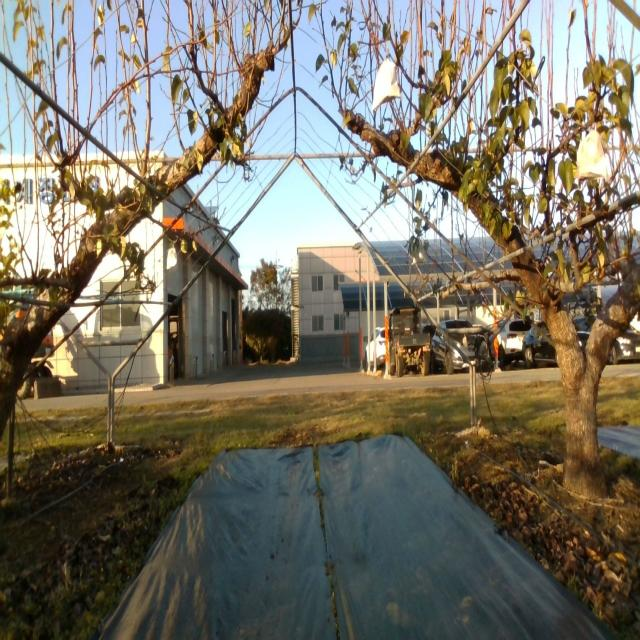pearbags: (576, 129, 608, 188), (372, 47, 401, 112), (412, 244, 428, 267), (166, 243, 178, 270)
